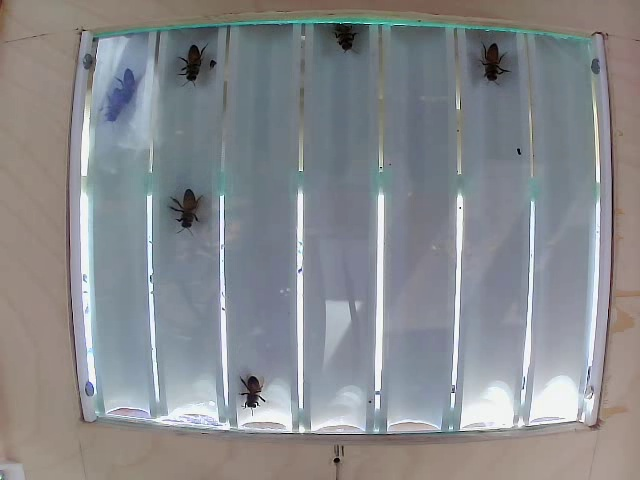bee: (170, 180, 210, 239), (466, 32, 512, 83), (104, 73, 143, 119), (178, 36, 214, 79)
